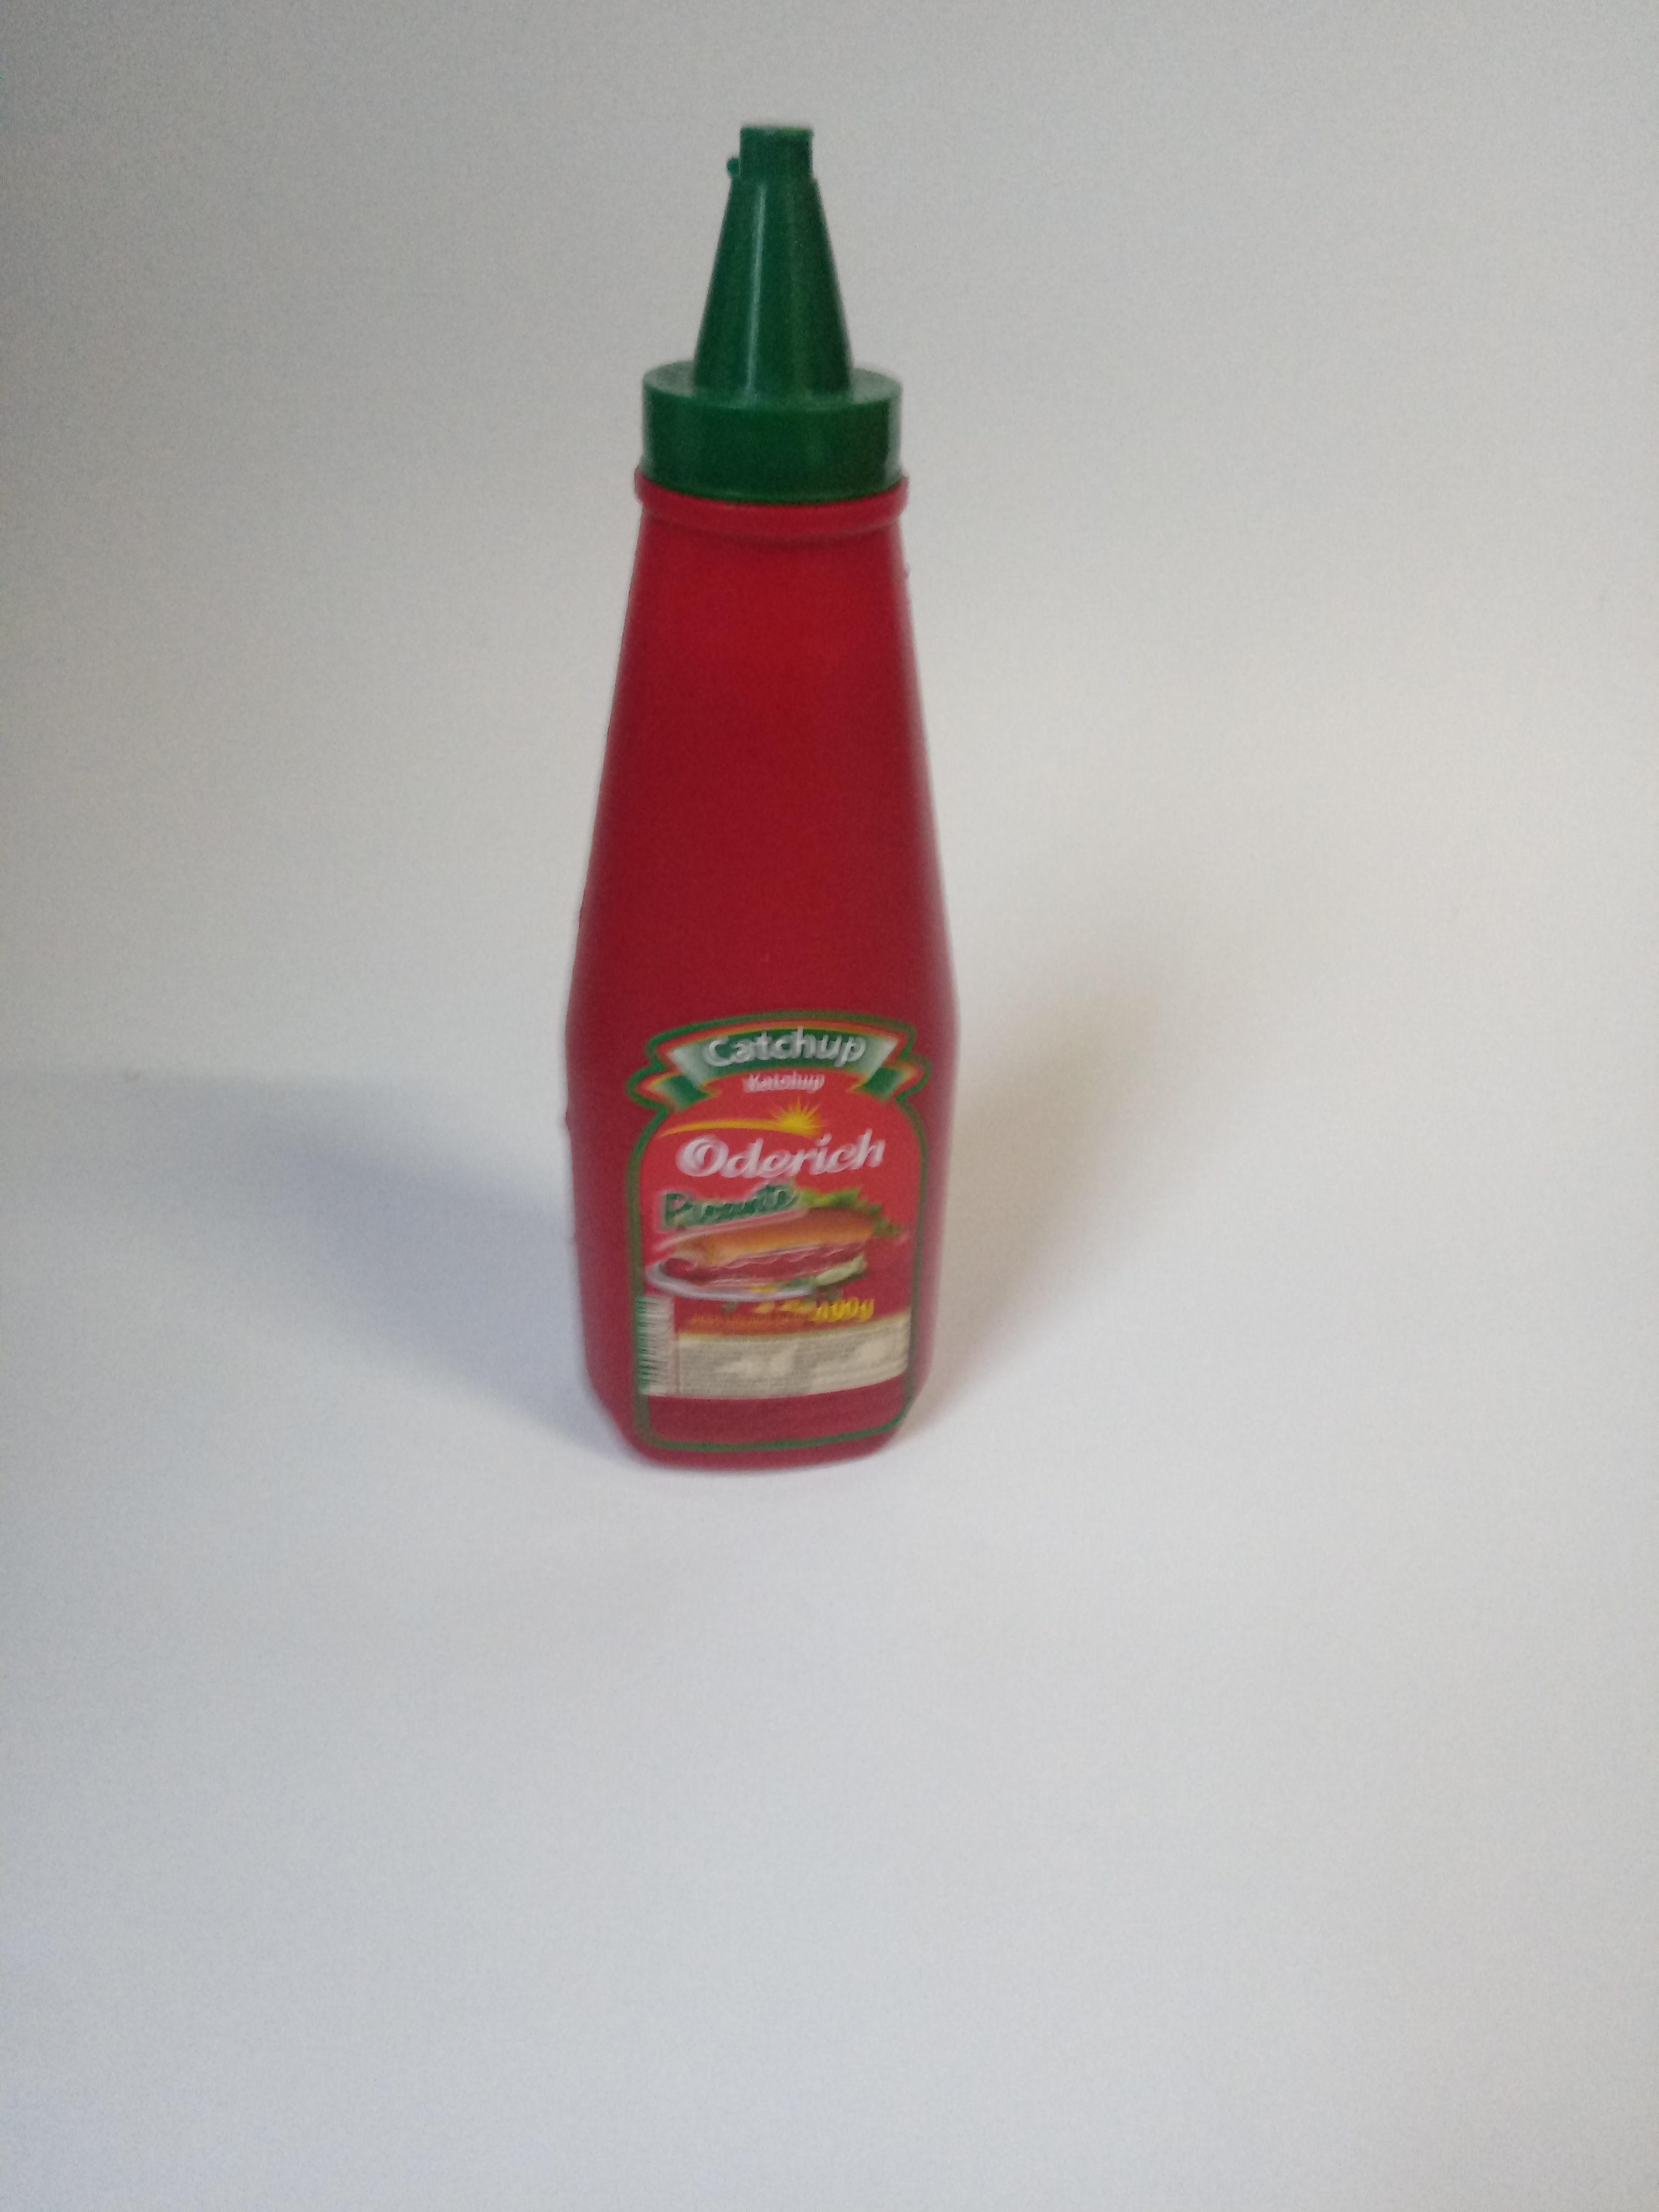catchup-oderich: (537, 87, 965, 1498)
